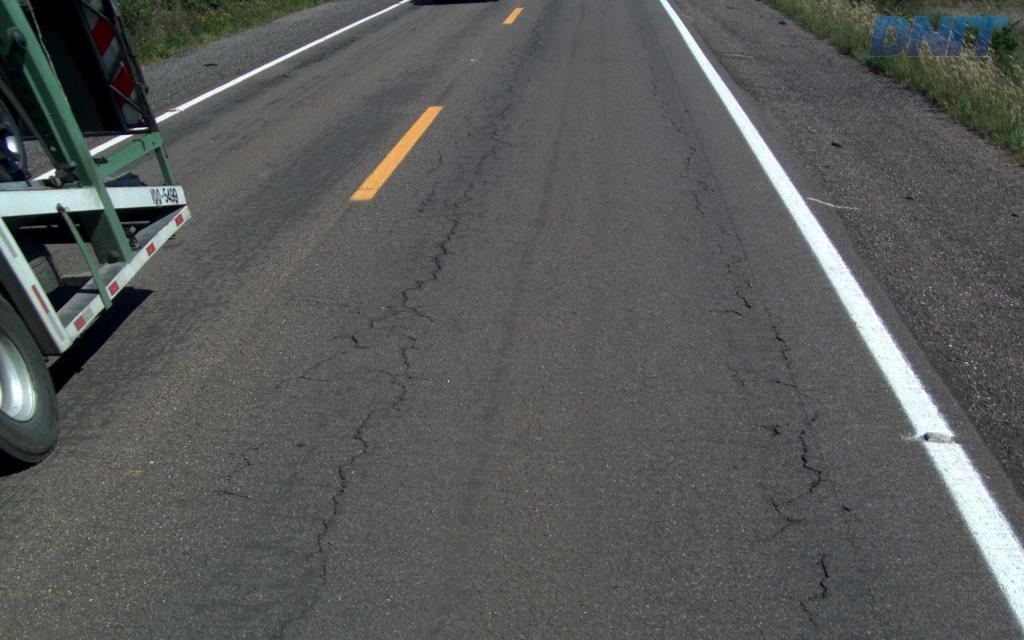crack: (315, 464, 347, 553), (427, 213, 461, 280), (797, 429, 826, 493), (808, 551, 832, 601)
